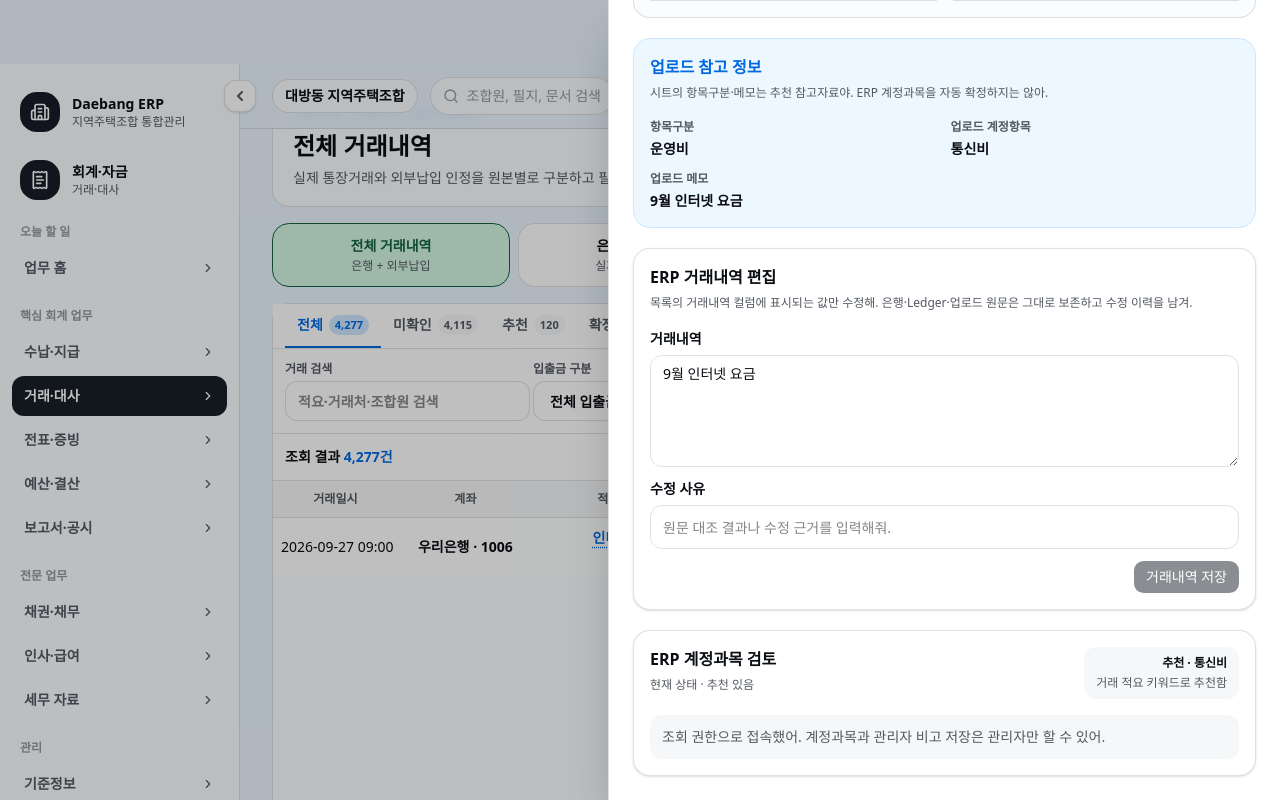
BankTransactionListPage › edits one ERP transaction-detail value without changing source references
(page scrolled)
Check: the button "거래내역 저장" is disabled, box top-left (1134, 561), bottom-right (1239, 593)
Replace the text in the text box labelled "거래내역" with "10월 통신비 납부" at point(944, 411), box top-left (650, 355), bottom-right (1239, 467)
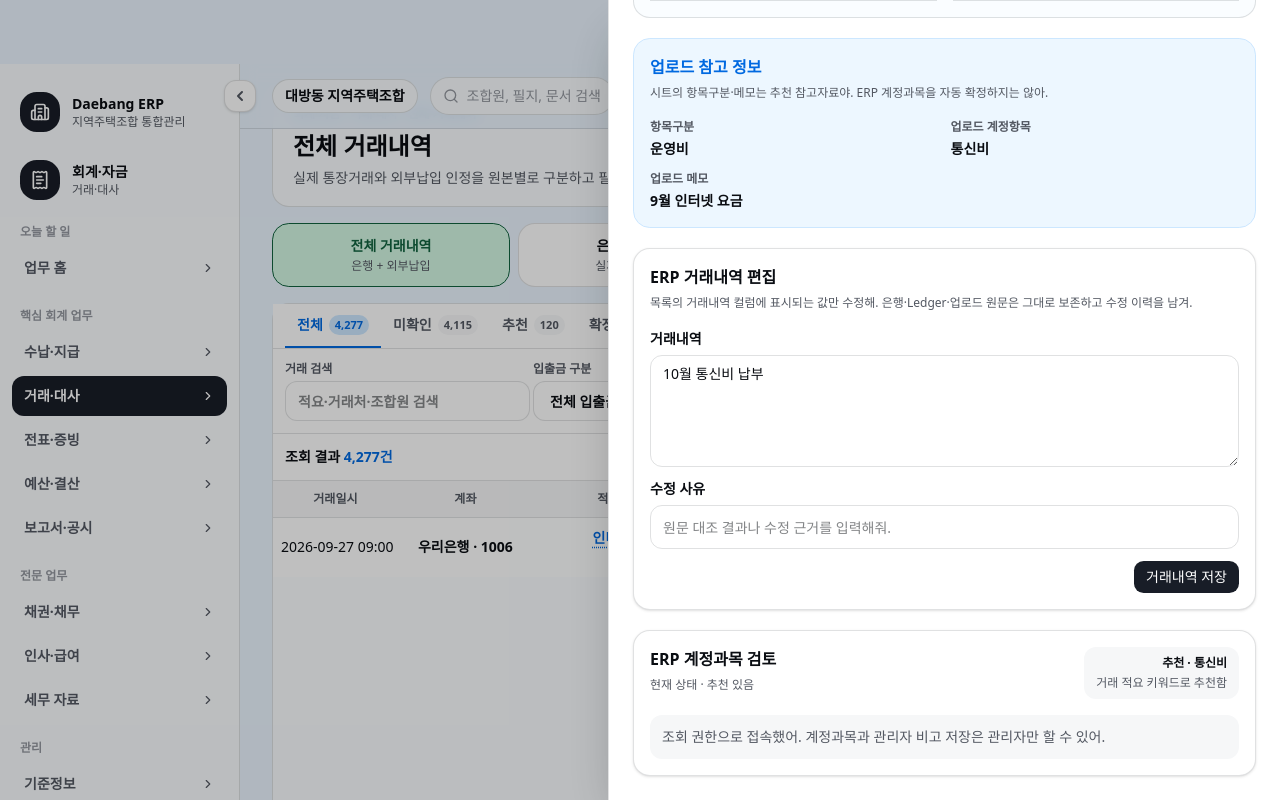
Type "통장 원문 대조" into the field named "거래내역 수정 사유" at point(944, 527), box top-left (650, 505), bottom-right (1239, 549)
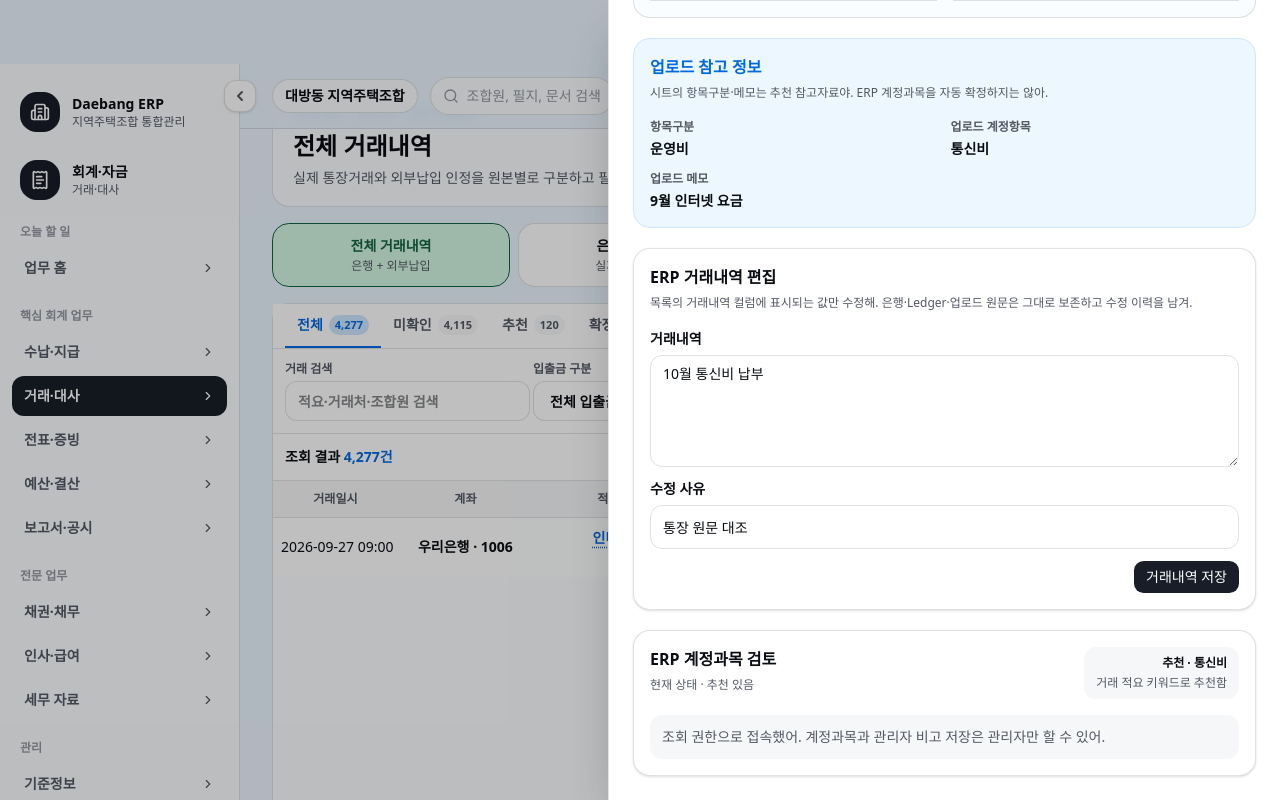
Click the button "거래내역 저장" at point(1187, 577), box top-left (1134, 561), bottom-right (1239, 593)
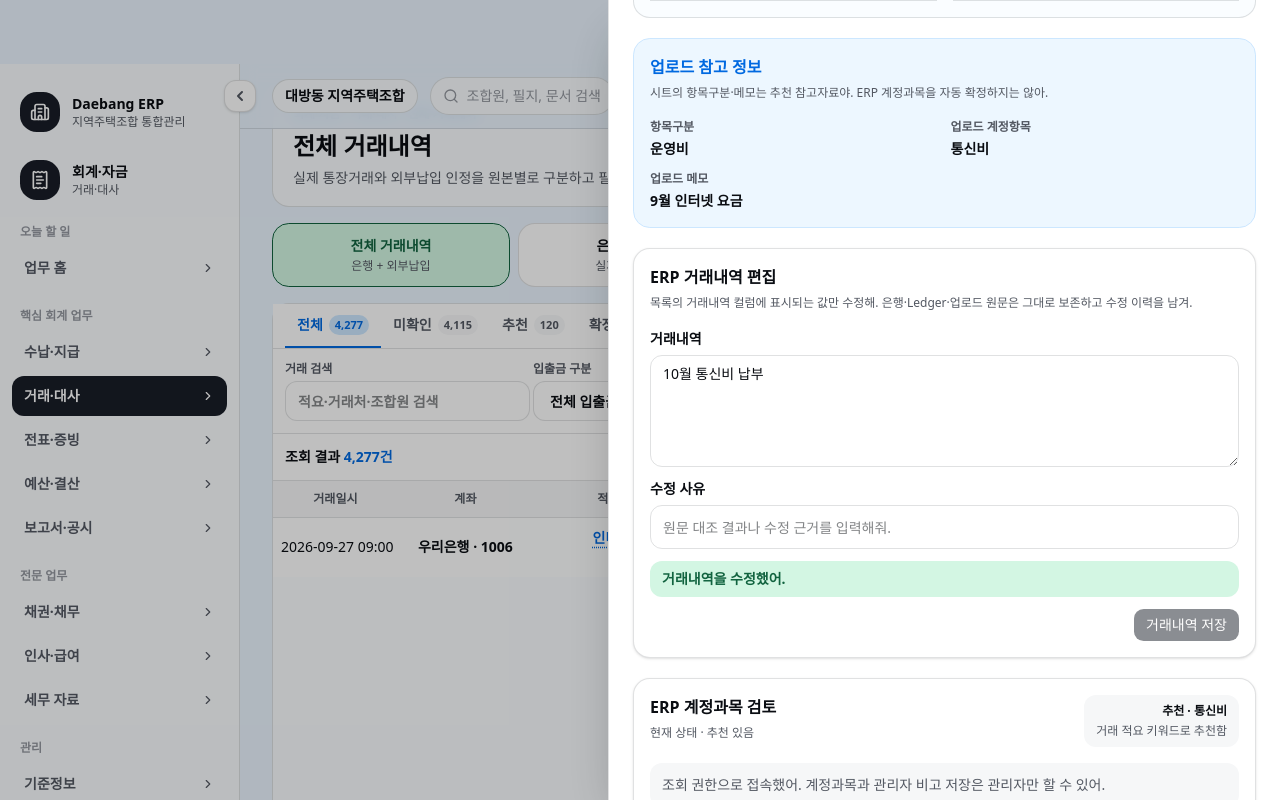
Check: the text "거래내역을 수정했어." is shown, box top-left (650, 561), bottom-right (1239, 597)
